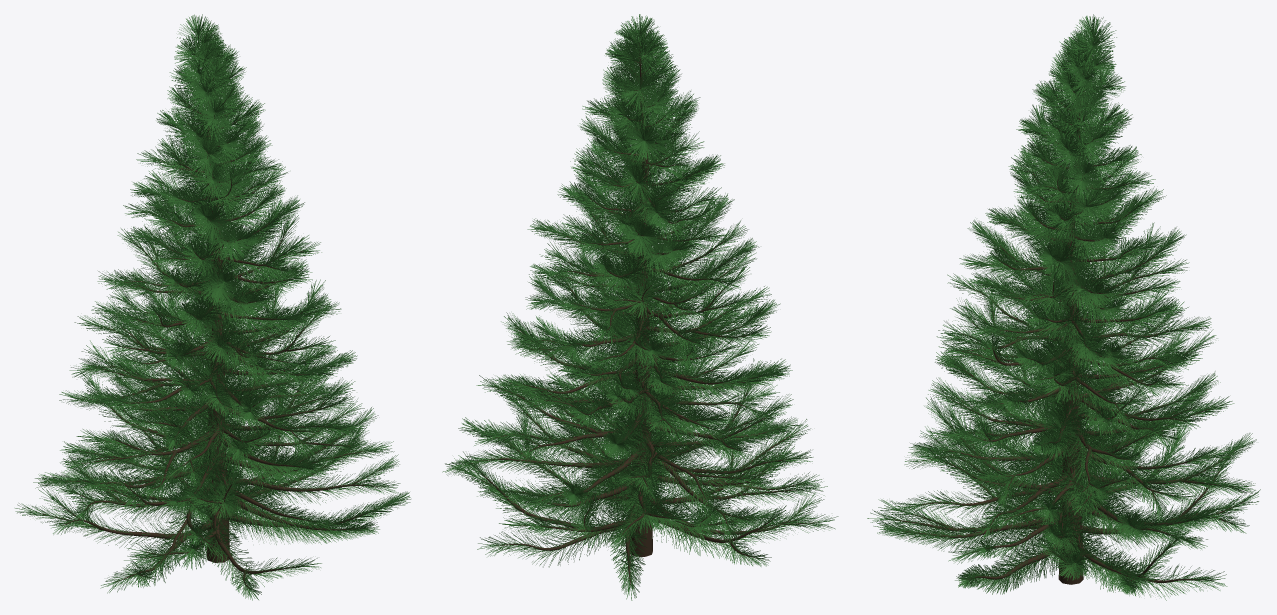
The model's file is Pine_Vhigh.fbx.
3 views of the same model, side by side, from view 1: azimuth 30°, elevation 25°; view 2: azimuth 150°, elevation 25°; view 3: azimuth 270°, elevation 25° (orthographic). The views are drawn at different scales.
Visible parts, largest first — view 1: leaves.002, Pine_Vhigh; view 2: leaves.002, Pine_Vhigh; view 3: leaves.002, Pine_Vhigh.
Boxes of the visible parts, box(x1,y1,x2,y2) form: leaves.002: box(15, 14, 410, 600); Pine_Vhigh: box(40, 37, 388, 589); leaves.002: box(442, 14, 838, 600); Pine_Vhigh: box(464, 39, 818, 585); leaves.002: box(867, 14, 1260, 600); Pine_Vhigh: box(887, 55, 1244, 584).
Bounding box in the file's own units: 318 × 490 × 314.
